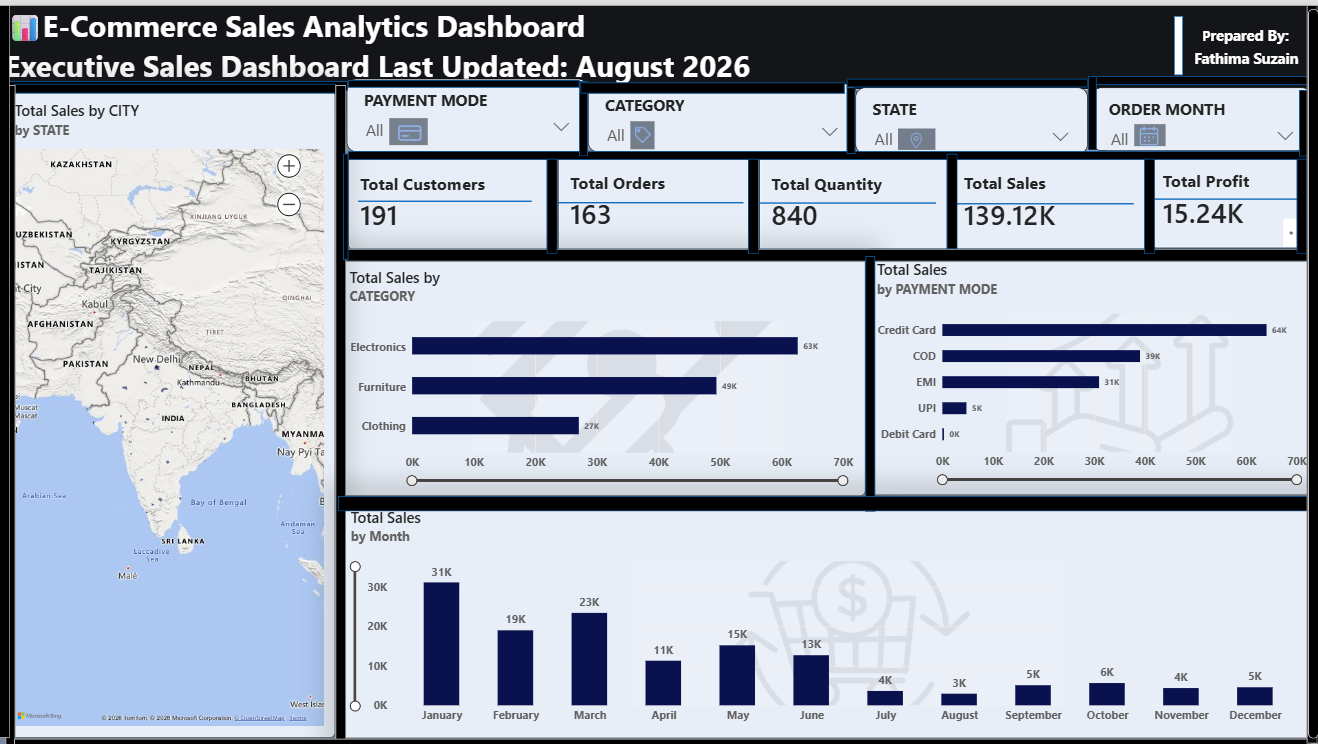

The page's visual inventory and layout, read from the dashboard file:
{"tool":"powerbi","page":{"name":"Page 2","canvas":[1920,1080],"ordinal":1},"visuals":[{"type":"textbox","box":[9.4,0,1908.1,123.2],"z":0},{"type":"cardVisual","fields":{"Data":["Sales.Total Sales"]},"box":[1387.4,215.1,288.4,145],"z":1000},{"type":"cardVisual","fields":{"Data":["Sales.Total Profit"]},"box":[1675.8,213.6,241.6,141.9],"z":2000},{"type":"cardVisual","fields":{"Data":["Sales.Total Orders"]},"box":[813.7,210.5,293.1,149.7],"z":3000},{"type":"cardVisual","fields":{"Data":["Sales.Total Quantity"]},"box":[1106.8,213.6,280.6,148.1],"z":4000},{"type":"cardVisual","fields":{"Data":["Sales.Total Customers"]},"box":[508.2,213.6,305.5,148.1],"z":5000},{"type":"clusteredBarChart","title":"Total Sales by ","fields":{"Category":["Sales.CATEGORY"],"Y":["Sales.Total Sales"]},"box":[494.2,364.8,767,349.2],"z":6000},{"type":"clusteredBarChart","fields":{"Category":["Sales.PAYMENT MODE"],"Y":["Sales.Total Sales"]},"box":[1261.1,355.4,659.4,358.5],"z":7000},{"type":"filledMap","fields":{"Category":["Sales.CITY"]},"box":[7.2,124,483.6,942],"z":8000},{"type":"slicer","fields":{"Values":["Sales.CATEGORY"]},"box":[857.5,115.1,390.1,98.9],"z":9000},{"type":"slicer","fields":{"Values":["Sales.STATE"]},"box":[1247.1,120,338,97.1],"z":10000},{"type":"slicer","fields":{"Values":["Calendar.Month"]},"box":[1591,120.4,320,91.7],"z":11000},{"type":"slicer","fields":{"Values":["Sales.PAYMENT MODE"]},"box":[507,107.9,350.6,106.1],"z":12000},{"type":"columnChart","fields":{"Category":["Calendar.Month"],"Y":["Sales.Total Sales"]},"box":[497,715,1420,352.3],"z":13000},{"type":"shape","box":[1675.8,219.8,241.6,124.7],"z":14000},{"type":"shape","box":[505.1,355.4,1409.2,18.7],"z":15000},{"type":"shape","box":[14,110.7,494.2,14],"z":16000},{"type":"shape","box":[509.8,212,1401.4,12.5],"z":17000},{"type":"shape","box":[508.2,109.1,336.7,10.9],"z":18000},{"type":"shape","box":[1261.1,364.8,14,371],"z":19000},{"type":"shape","box":[813.7,224.5,269.7,127.8],"z":20000},{"type":"shape","box":[1395.2,235.4,257.2,109.1],"z":21000},{"type":"shape","box":[523.8,215.1,252.5,141.9],"z":22000},{"type":"shape","box":[1106.8,216.7,257.2,143.4],"z":23000},{"type":"shape","title":"Sales by State","box":[23.4,115.4,467.7,14],"z":24000},{"type":"shape","box":[491.1,116.9,15.6,963.4],"z":25000},{"type":"shape","box":[1591.6,102.9,328.9,12.5],"z":26000},{"type":"shape","box":[494.2,714,1417,21.8],"z":27000},{"type":"shape","box":[1234.6,107.6,350.8,12.5],"z":28000},{"type":"shape","box":[1905,0,15.6,1074.1],"z":29000},{"type":"shape","box":[10,116.1,14.4,960],"z":30000},{"type":"shape","box":[23.4,1067.8,1887.8,12.5],"z":31000},{"type":"shape","box":[844.9,110.7,12.5,109.1],"z":33000},{"type":"shape","box":[1234.6,120,12.5,96.7],"z":34000},{"type":"shape","box":[1585.4,102.9,12.5,107.6],"z":35000},{"type":"shape","box":[1892.5,123.2,12.5,96.7],"z":36000},{"type":"shape","box":[502,216.7,7.8,154.3],"z":37000},{"type":"shape","box":[798.2,222.9,15.6,138.7],"z":38000},{"type":"shape","box":[1091.2,222.9,15.6,138.7],"z":39000},{"type":"shape","box":[1379.6,216.7,15.6,138.7],"z":40000},{"type":"shape","box":[1668,224.5,15.6,138.7],"z":41000},{"type":"shape","box":[1889.4,222.9,15.6,138.7],"z":42000},{"type":"image","box":[569,159,55.7,52.1],"z":43000},{"type":"image","box":[857.4,168.4,159,40.5],"z":44000},{"type":"image","box":[1309.5,123.2,54.6,143.4],"z":45000},{"type":"image","box":[1652.4,130.9,45.2,116.9],"z":46000},{"type":"shape","box":[1904.4,0,15.6,1074.1],"z":47000},{"type":"shape","box":[1905,6.2,15.6,1061.6],"z":48000},{"type":"shape","box":[0,0,17.1,1066.3],"z":49000},{"type":"textbox","box":[1739.7,6.2,159,96.7],"z":50000},{"type":"shape","box":[1710.1,17.1,12.5,85.7],"z":51000},{"type":"shape","box":[848,112,384,16],"z":51001}]}

Visuals, with their boxes in screenshot pixels (x1, y1, x2, y2), scaled from the page's 1920x1080 canvas onto the 1318x744 screenshot:
textbox: x1=6, y1=0, x2=1316, y2=85
cardVisual - Sales.Total Sales: x1=952, y1=148, x2=1150, y2=248
cardVisual - Sales.Total Profit: x1=1150, y1=147, x2=1316, y2=245
cardVisual - Sales.Total Orders: x1=559, y1=145, x2=760, y2=248
cardVisual - Sales.Total Quantity: x1=760, y1=147, x2=952, y2=249
cardVisual - Sales.Total Customers: x1=349, y1=147, x2=559, y2=249
"Total Sales by " clusteredBarChart: x1=339, y1=251, x2=866, y2=492
clusteredBarChart - Sales.PAYMENT MODE x Sales.Total Sales: x1=866, y1=245, x2=1317, y2=492
filledMap - Sales.CITY: x1=5, y1=85, x2=337, y2=734
slicer - Sales.CATEGORY: x1=589, y1=79, x2=856, y2=147
slicer - Sales.STATE: x1=856, y1=83, x2=1088, y2=150
slicer - Calendar.Month: x1=1092, y1=83, x2=1312, y2=146
slicer - Sales.PAYMENT MODE: x1=348, y1=74, x2=589, y2=147
columnChart - Calendar.Month x Sales.Total Sales: x1=341, y1=493, x2=1316, y2=735
shape: x1=1150, y1=151, x2=1316, y2=237
shape: x1=347, y1=245, x2=1314, y2=258
shape: x1=10, y1=76, x2=349, y2=86
shape: x1=350, y1=146, x2=1312, y2=155
shape: x1=349, y1=75, x2=580, y2=83
shape: x1=866, y1=251, x2=875, y2=507
shape: x1=559, y1=155, x2=744, y2=243
shape: x1=958, y1=162, x2=1134, y2=237
shape: x1=360, y1=148, x2=533, y2=246
shape: x1=760, y1=149, x2=936, y2=248
"Sales by State" shape: x1=16, y1=79, x2=337, y2=89
shape: x1=337, y1=81, x2=348, y2=743
shape: x1=1093, y1=71, x2=1317, y2=79
shape: x1=339, y1=492, x2=1312, y2=507
shape: x1=848, y1=74, x2=1088, y2=83
shape: x1=1308, y1=0, x2=1317, y2=740
shape: x1=7, y1=80, x2=17, y2=741
shape: x1=16, y1=736, x2=1312, y2=743
shape: x1=580, y1=76, x2=589, y2=151
shape: x1=848, y1=83, x2=856, y2=149
shape: x1=1088, y1=71, x2=1097, y2=145
shape: x1=1299, y1=85, x2=1308, y2=151
shape: x1=345, y1=149, x2=350, y2=256
shape: x1=548, y1=154, x2=559, y2=249
shape: x1=749, y1=154, x2=760, y2=249
shape: x1=947, y1=149, x2=958, y2=245
shape: x1=1145, y1=155, x2=1156, y2=250
shape: x1=1297, y1=154, x2=1308, y2=249
image: x1=391, y1=110, x2=429, y2=145
image: x1=589, y1=116, x2=698, y2=144
image: x1=899, y1=85, x2=936, y2=184
image: x1=1134, y1=90, x2=1165, y2=171
shape: x1=1307, y1=0, x2=1317, y2=740
shape: x1=1308, y1=4, x2=1317, y2=736
shape: x1=0, y1=0, x2=12, y2=735
textbox: x1=1194, y1=4, x2=1303, y2=71
shape: x1=1174, y1=12, x2=1182, y2=71
shape: x1=582, y1=77, x2=846, y2=88
